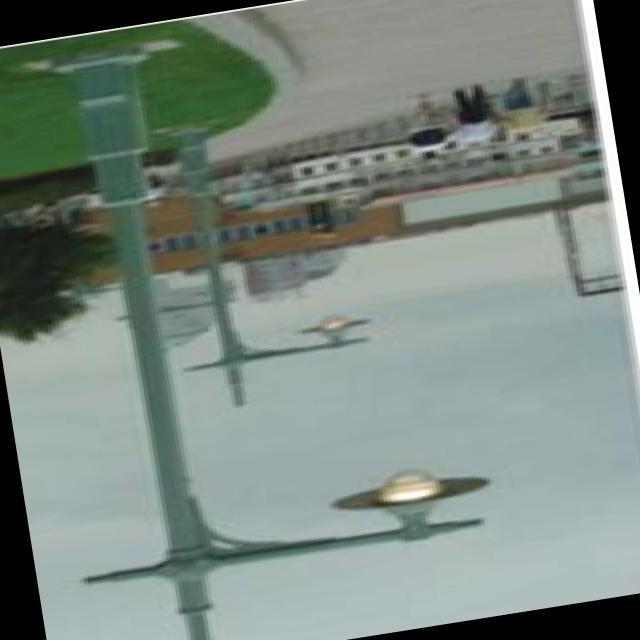on: (307, 433, 498, 580)
